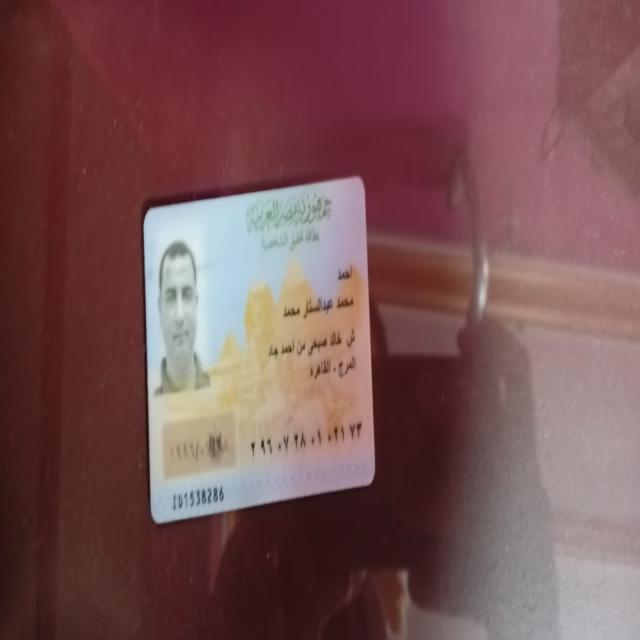ID-cards: (141, 164, 382, 533)
